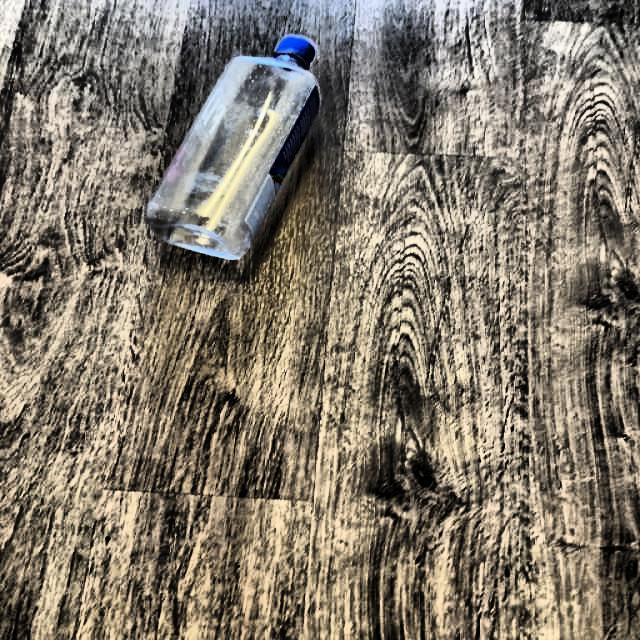plastic bottle: (145, 35, 319, 260)
